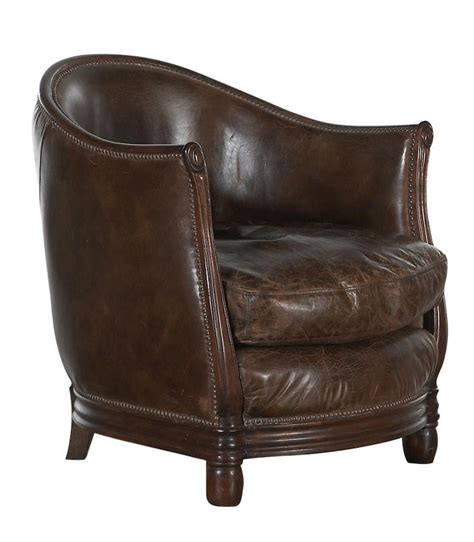cuero: (32, 54, 449, 428)
